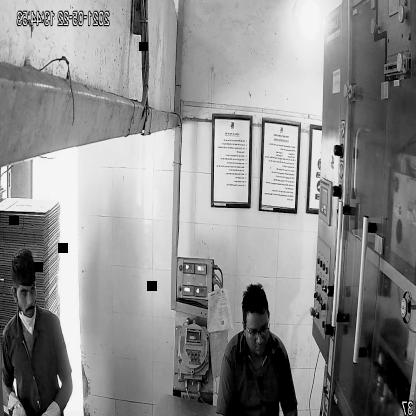goggles: (246, 318, 272, 344)
no_goggles: (13, 284, 38, 300)
